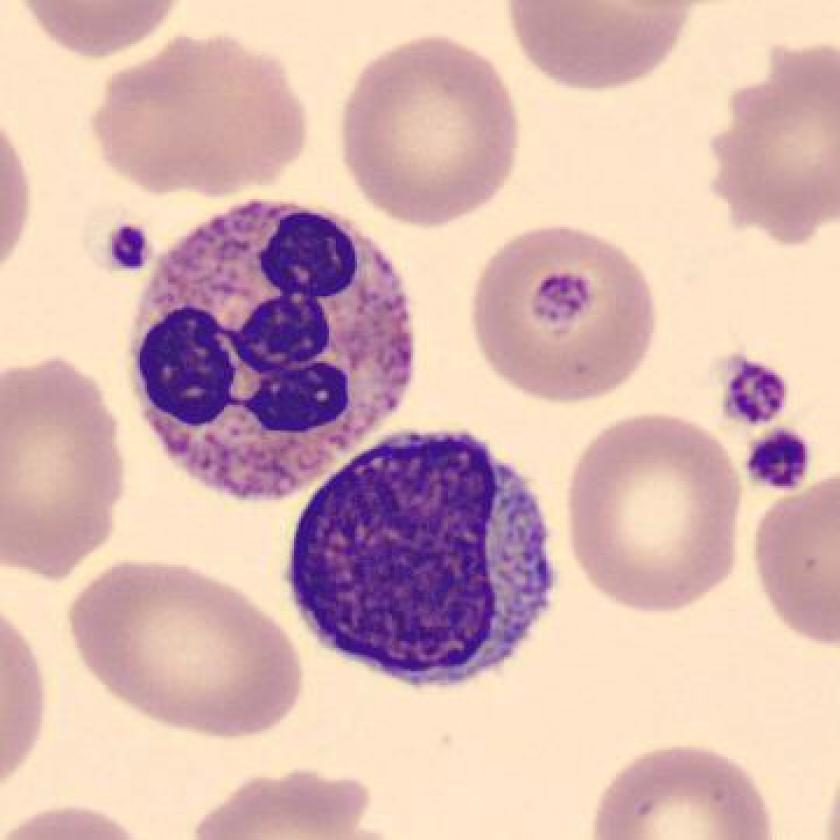lymphocyte: (270, 425, 578, 705)
neutrophil: (124, 195, 422, 505)
